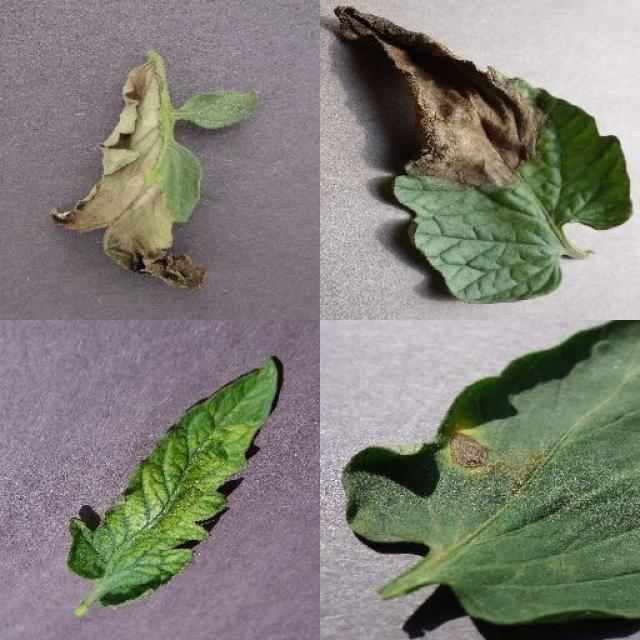Early Blight: (339, 320, 640, 622)
Late Blight: (331, 3, 634, 305), (49, 60, 209, 292)
